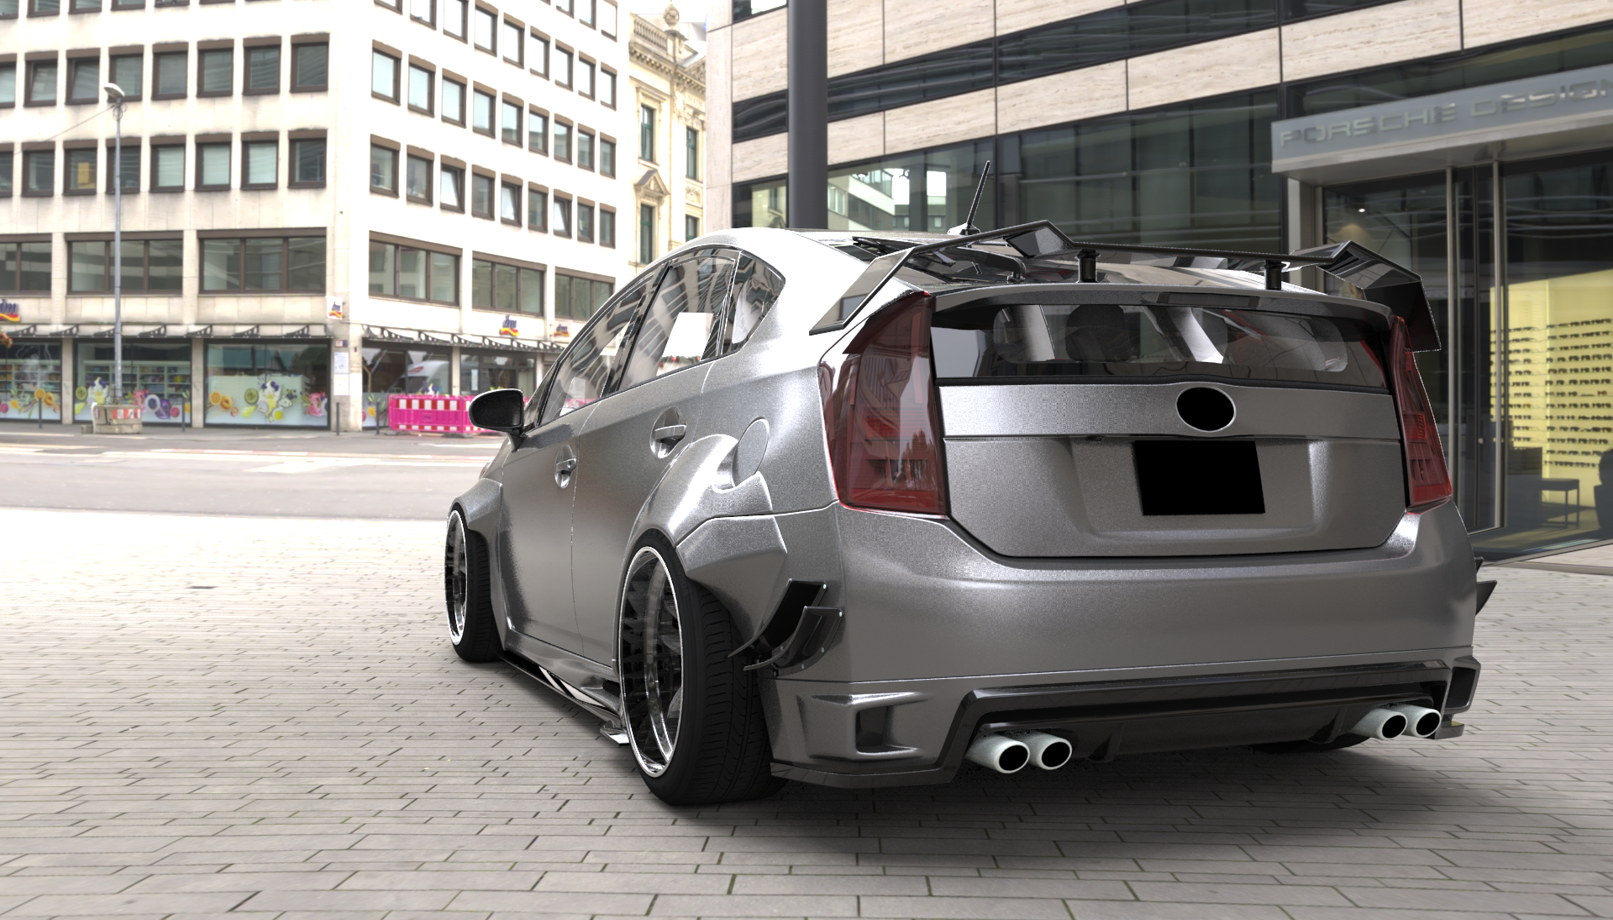hatch: (730, 412, 775, 493)
